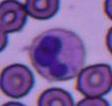N: (31, 27, 85, 79)
